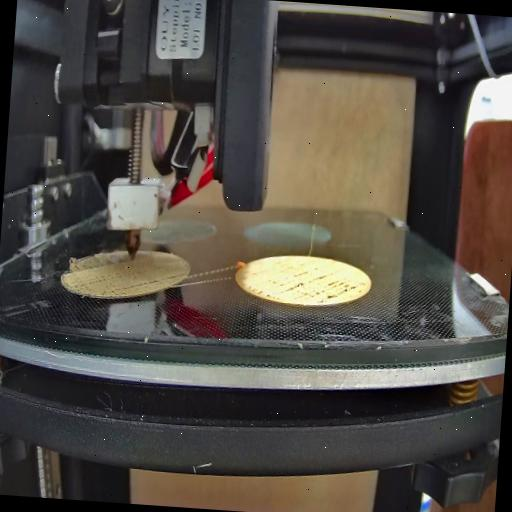under_extrusion: (243, 269, 367, 312), (108, 263, 185, 305), (56, 242, 82, 284)
